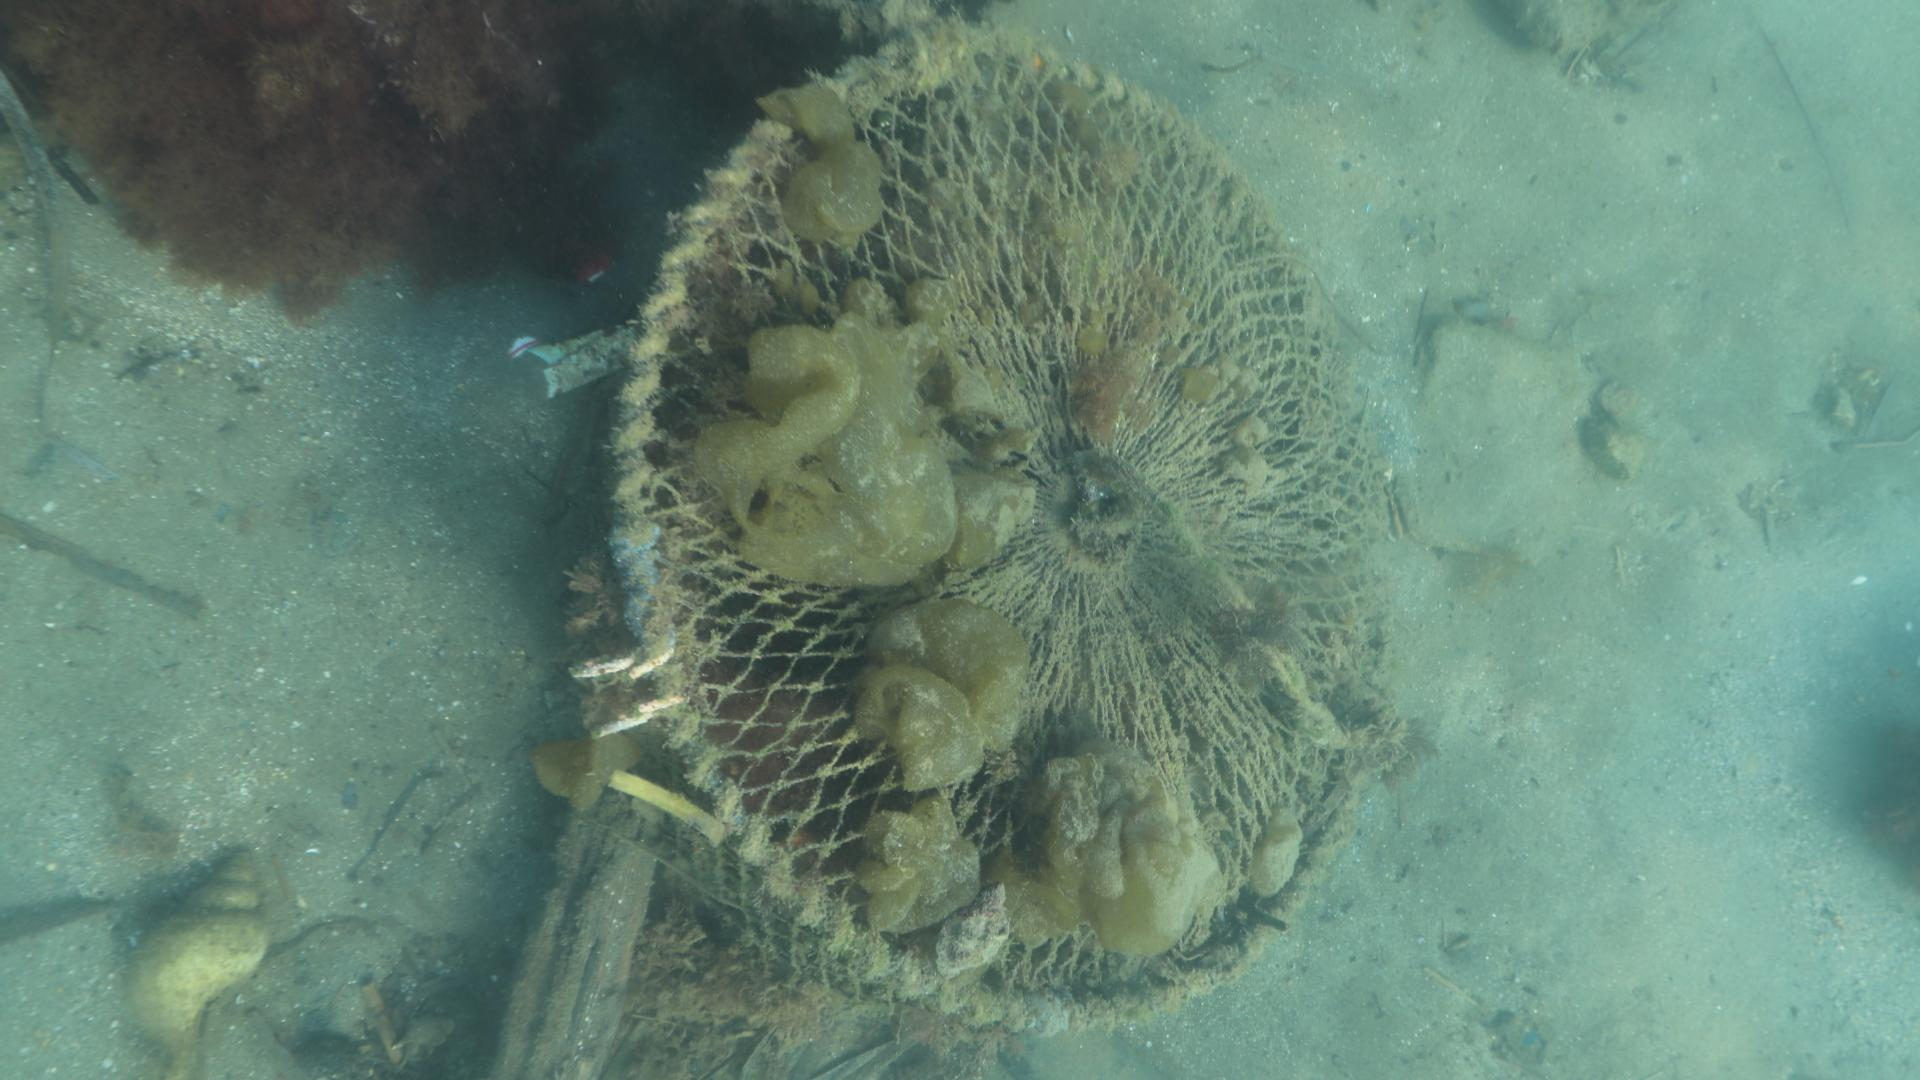circular fish trap: (604, 25, 1398, 1033)
